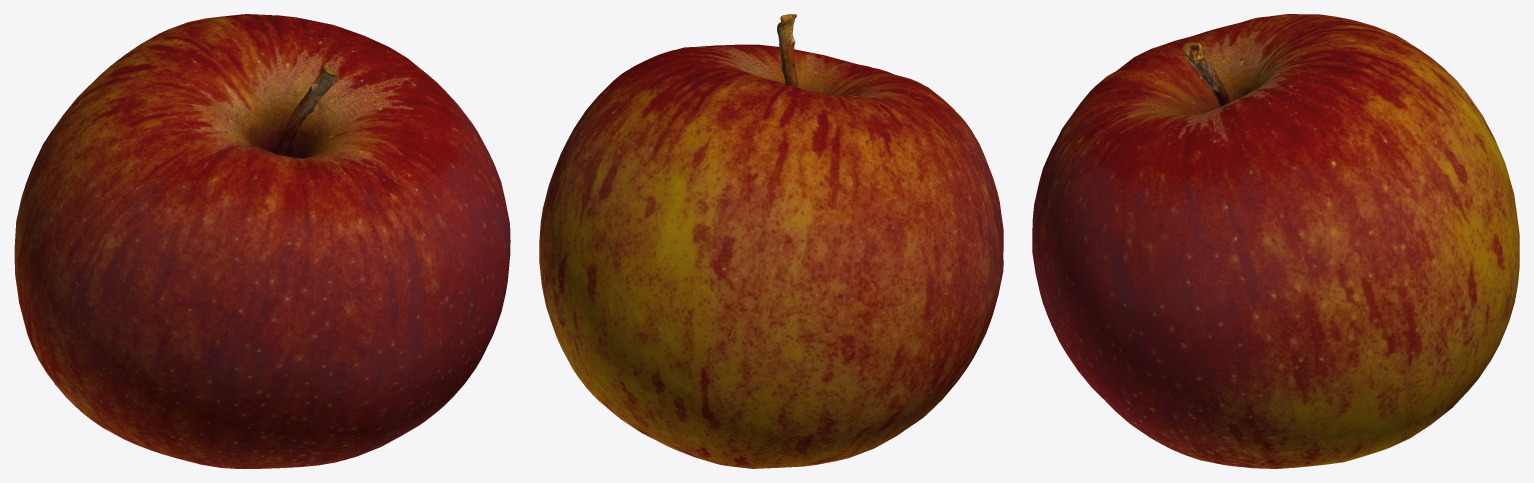
The model's file is food.glb.
3 views of the same model, side by side, from view 1: azimuth 30°, elevation 25°; view 2: azimuth 150°, elevation 25°; view 3: azimuth 270°, elevation 25° (orthographic). The views are drawn at different scales.
Parts seen in each view (by area): view 1: food_apple_01; view 2: food_apple_01; view 3: food_apple_01.
Part boxes in pixels (x1,y1,x2,y2): food_apple_01: (14,14,510,468); food_apple_01: (539,14,1003,468); food_apple_01: (1032,14,1519,468).
Size of the model in its own units: 0.0976 by 0.0854 by 0.0959.
1 material, 1 textured.
